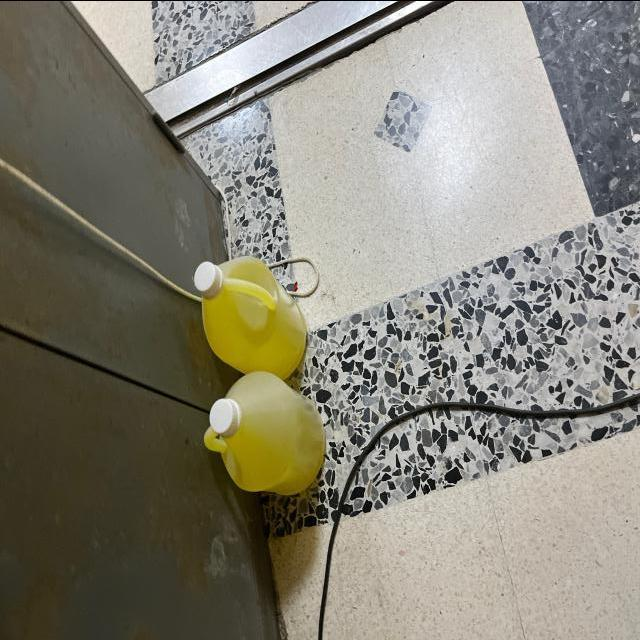HDPE Plastic: (176, 244, 314, 385), (191, 374, 335, 507)
